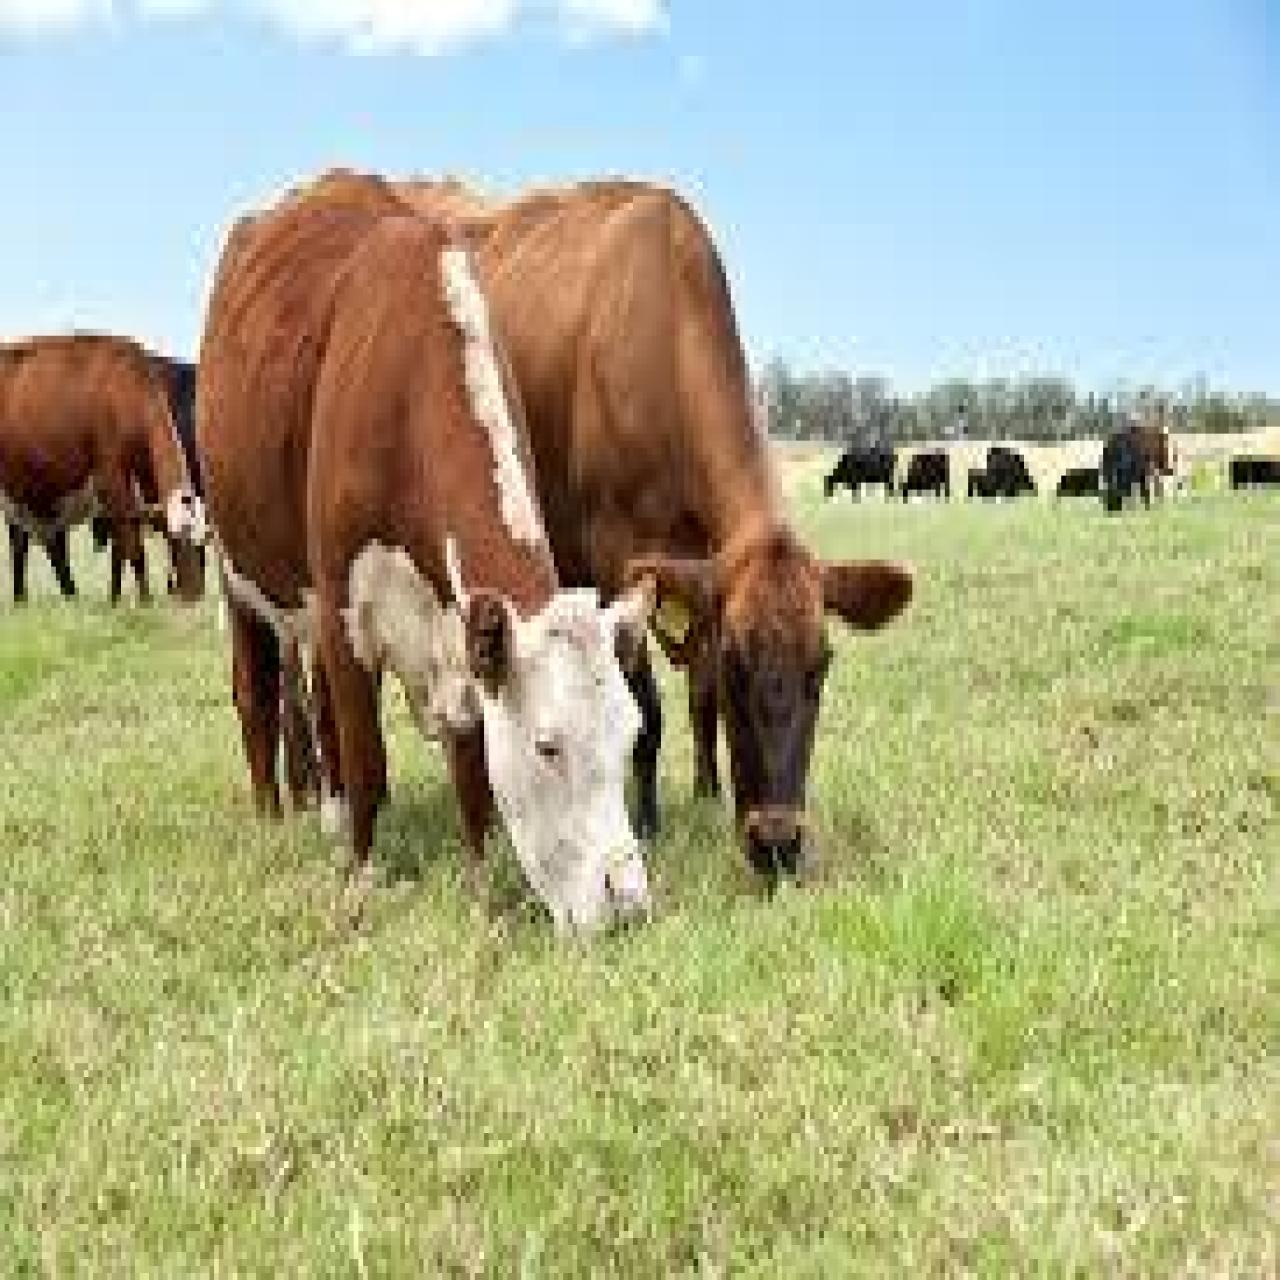cow: (396, 182, 918, 888), (191, 168, 647, 945), (0, 332, 219, 605), (815, 434, 904, 504), (1098, 430, 1169, 515), (900, 448, 947, 511), (982, 448, 1033, 504)
